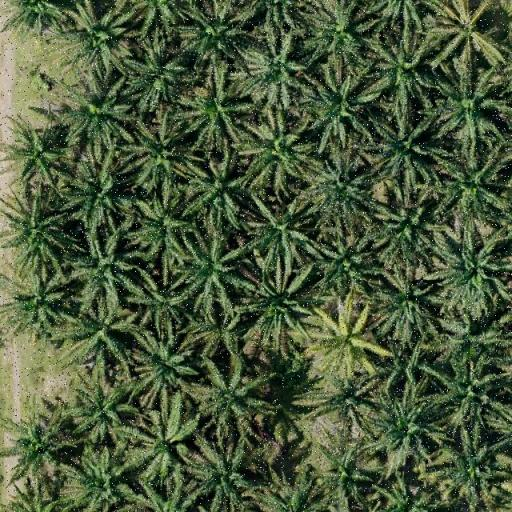Ganoderma: (318, 316, 368, 363)
